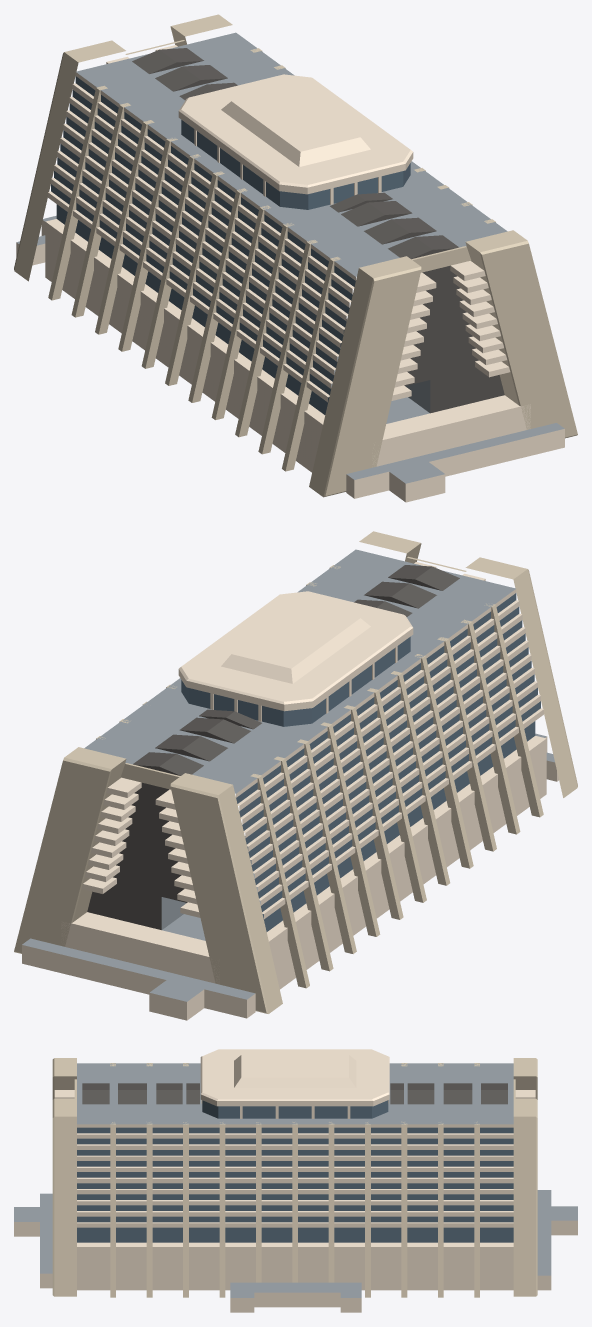
File: detail.glb
3 views of the same model, one above another, from view 1: azimuth 30°, elevation 25°; view 2: azimuth 150°, elevation 25°; view 3: azimuth 270°, elevation 25° (orthographic). The views are drawn at different scales.
Parts seen in each view (by area): view 1: disneys-contemporary-resort-walt-disney-world; view 2: disneys-contemporary-resort-walt-disney-world; view 3: disneys-contemporary-resort-walt-disney-world.
Boxes of the visible parts, x1,y1,x2,y2 form: disneys-contemporary-resort-walt-disney-world: (14,14,577,502); disneys-contemporary-resort-walt-disney-world: (14,531,577,1020); disneys-contemporary-resort-walt-disney-world: (14,1049,577,1312).
Bounding box in the file's own units: 74.55 × 56 × 157.
